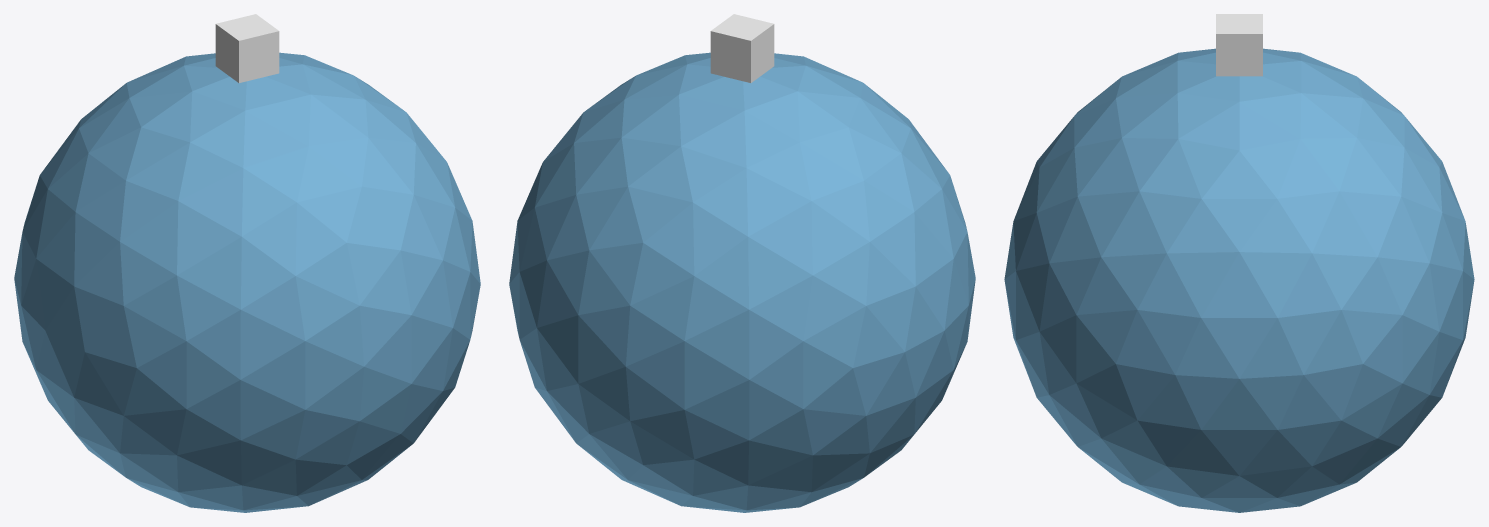
Rendered from placeholder-scene.glb.
The picture shows the model from 3 angles, left to right: view 1: azimuth 30°, elevation 25°; view 2: azimuth 150°, elevation 25°; view 3: azimuth 270°, elevation 25°; orthographic projection.
Visible parts, largest first — view 1: Planet_Placeholder, Astronaut_Placeholder; view 2: Planet_Placeholder, Astronaut_Placeholder; view 3: Planet_Placeholder, Astronaut_Placeholder.
Part boxes in pixels (x1=…): Planet_Placeholder: x1=14, y1=52, x2=480, y2=512; Astronaut_Placeholder: x1=215, y1=14, x2=279, y2=82; Planet_Placeholder: x1=509, y1=52, x2=975, y2=512; Astronaut_Placeholder: x1=710, y1=14, x2=774, y2=82; Planet_Placeholder: x1=1004, y1=48, x2=1474, y2=512; Astronaut_Placeholder: x1=1216, y1=14, x2=1262, y2=76.
Bounding box in the file's own units: 8 × 8.8 × 8.
